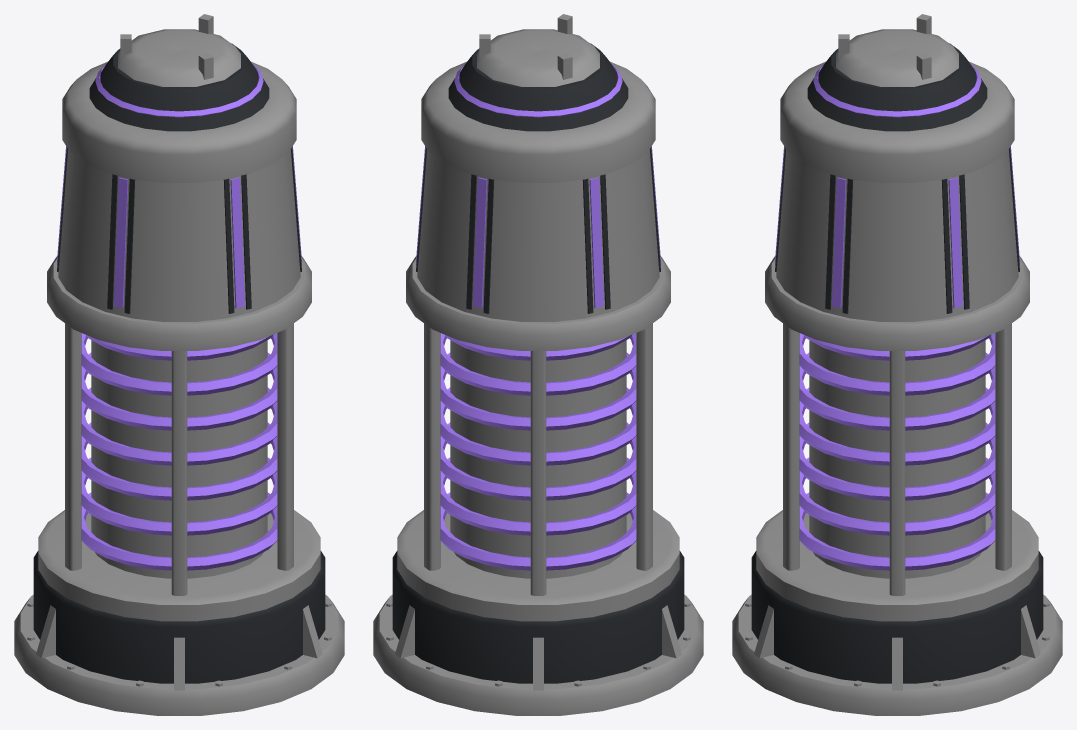
File: Vault_ResonatorPillar.fbx
The picture shows the model from 3 angles, left to right: view 1: azimuth 30°, elevation 25°; view 2: azimuth 150°, elevation 25°; view 3: azimuth 270°, elevation 25°; orthographic projection.
Visible parts, largest first — view 1: Vault_ResonatorPillar_LOD0; view 2: Vault_ResonatorPillar_LOD0; view 3: Vault_ResonatorPillar_LOD0.
Boxes of the visible parts, x1,y1,x2,y2 form: Vault_ResonatorPillar_LOD0: [14, 14, 344, 715]; Vault_ResonatorPillar_LOD0: [373, 14, 703, 715]; Vault_ResonatorPillar_LOD0: [732, 14, 1062, 715].
Size of what is drawn, in the model's own units: 1.48 by 3.02 by 1.48.
